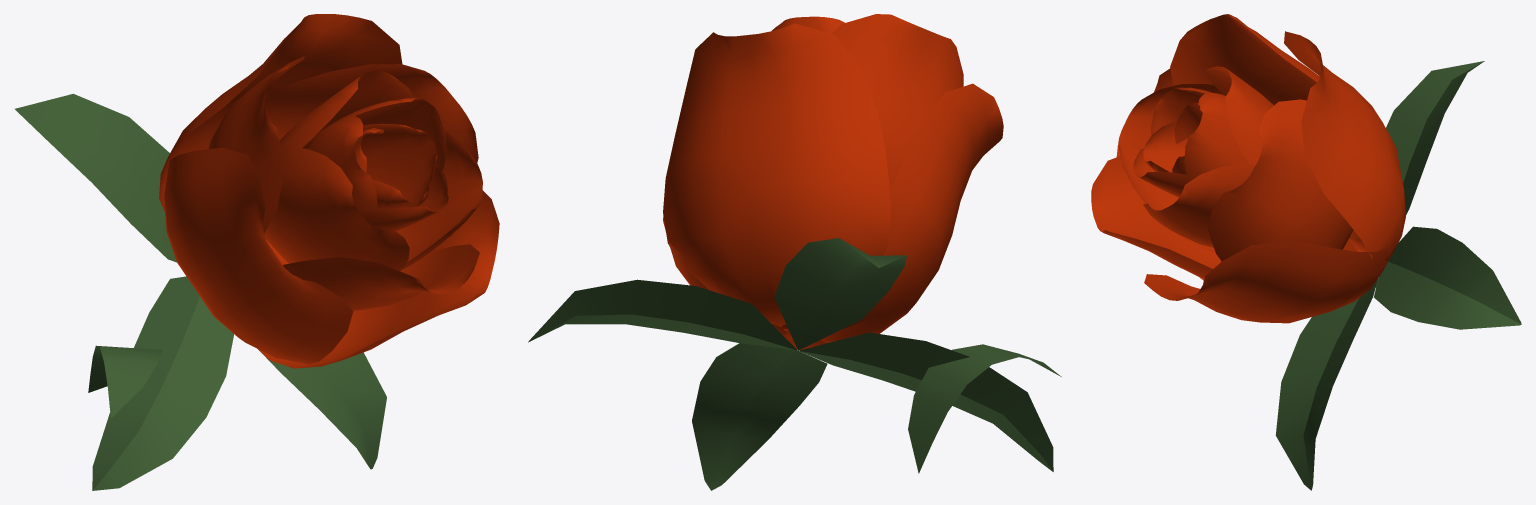
File: Rosas1.3.fbx
3 renders of one model, left to right at view 1: azimuth 30°, elevation 25°; view 2: azimuth 150°, elevation 25°; view 3: azimuth 270°, elevation 25°, orthographic. The views are drawn at different scales.
Visible parts, largest first — view 1: polySurface243, polySurface337, polySurface324; view 2: polySurface243, polySurface337, polySurface324; view 3: polySurface243, polySurface337.
Part boxes in pixels (x1,y1,x2,y2): polySurface243: (159, 14, 499, 368); polySurface337: (15, 93, 386, 490); polySurface324: (88, 345, 162, 417); polySurface243: (663, 14, 1003, 349); polySurface337: (528, 238, 1053, 490); polySurface324: (908, 344, 1061, 473); polySurface243: (1091, 14, 1405, 323); polySurface337: (1275, 61, 1521, 490).
Bounding box in the file's own units: 4.91 × 5.88 × 5.43.
